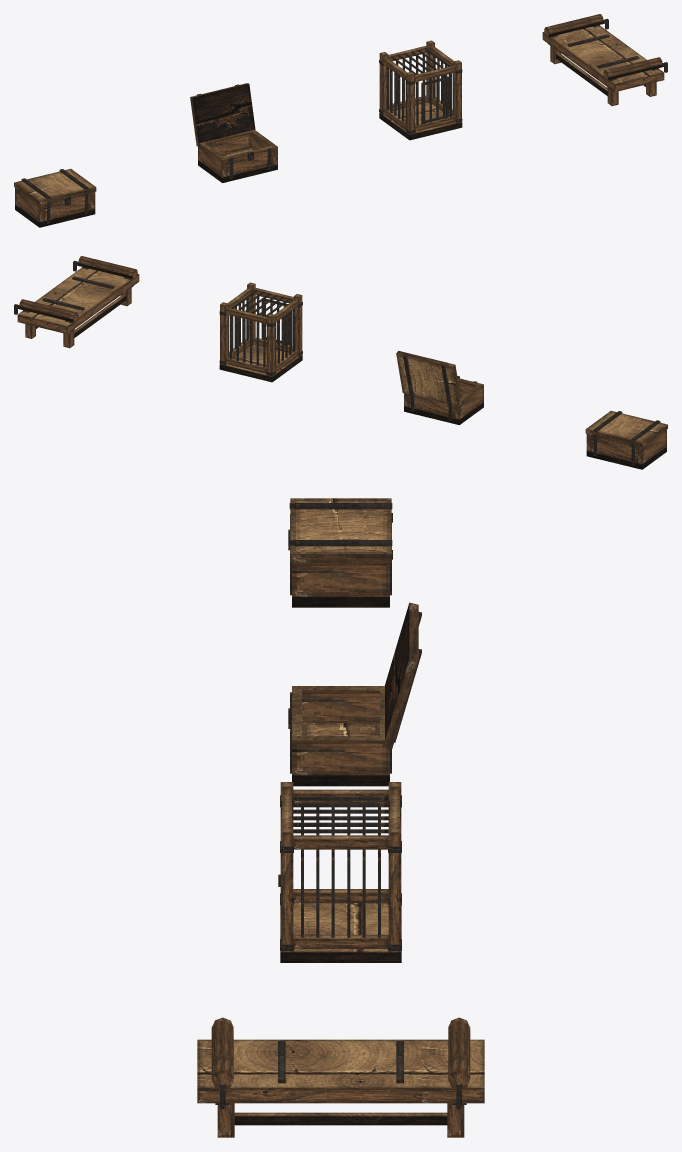
Rendered from underkeep.glb.
The picture shows the model from 3 angles, top to bottom: view 1: azimuth 30°, elevation 25°; view 2: azimuth 150°, elevation 25°; view 3: azimuth 270°, elevation 25°; orthographic projection. The views are drawn at different scales.
Visible parts, largest first — view 1: Underkeep-cage, Underkeep-chest-open, Underkeep-rack, Underkeep-chest-closed; view 2: Underkeep-cage, Underkeep-rack, Underkeep-chest-open, Underkeep-chest-closed; view 3: Underkeep-rack, Underkeep-cage, Underkeep-chest-open, Underkeep-chest-closed.
Boxes of the visible parts, box(x1,y1,x2,y2) form: Underkeep-cage: box(379, 40, 462, 140); Underkeep-chest-open: box(190, 83, 277, 182); Underkeep-rack: box(542, 14, 667, 106); Underkeep-chest-closed: box(14, 168, 96, 227); Underkeep-cage: box(219, 282, 302, 382); Underkeep-rack: box(14, 256, 139, 348); Underkeep-chest-open: box(396, 351, 483, 424); Underkeep-chest-closed: box(585, 410, 667, 469); Underkeep-rack: box(197, 1017, 484, 1137); Underkeep-cage: box(278, 782, 401, 962); Underkeep-chest-open: box(288, 602, 421, 786); Underkeep-chest-closed: box(288, 498, 392, 607).
Size of the model in its own units: 8.36 by 0.85 by 1.7.
4 materials, 4 textured.
